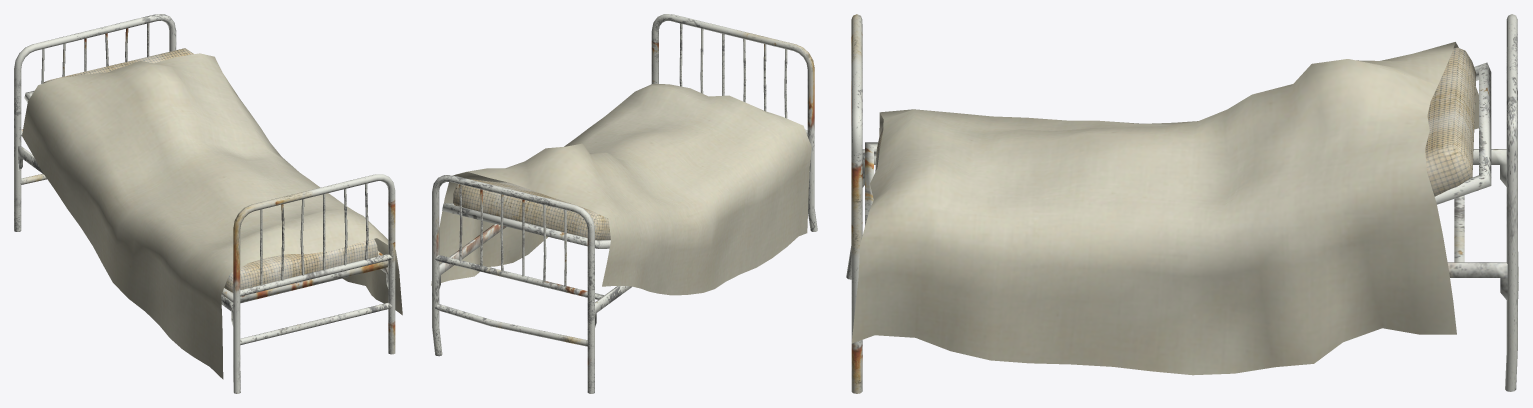
The model's file is Hospital_Bed.obj.
The picture shows the model from 3 angles, left to right: view 1: azimuth 30°, elevation 25°; view 2: azimuth 150°, elevation 25°; view 3: azimuth 270°, elevation 25°; orthographic projection. The views are drawn at different scales.
Visible parts, largest first — view 1: SheetWhite, MetalWhite, BedMattress; view 2: SheetWhite, MetalWhite, BedMattress; view 3: SheetWhite, MetalWhite, BedMattress.
Part boxes in pixels (<box>): SheetWhite: <box>22,53,402,379</box>; MetalWhite: <box>14,14,395,393</box>; BedMattress: <box>43,48,377,292</box>; SheetWhite: <box>431,84,811,295</box>; MetalWhite: <box>432,14,817,393</box>; BedMattress: <box>453,179,610,240</box>; SheetWhite: <box>851,42,1478,375</box>; MetalWhite: <box>846,14,1518,393</box>; BedMattress: <box>875,47,1476,196</box>.
Bounding box in the file's own units: 2.97 × 2.74 × 6.03.
Materials: 3 (3 with a texture image).
